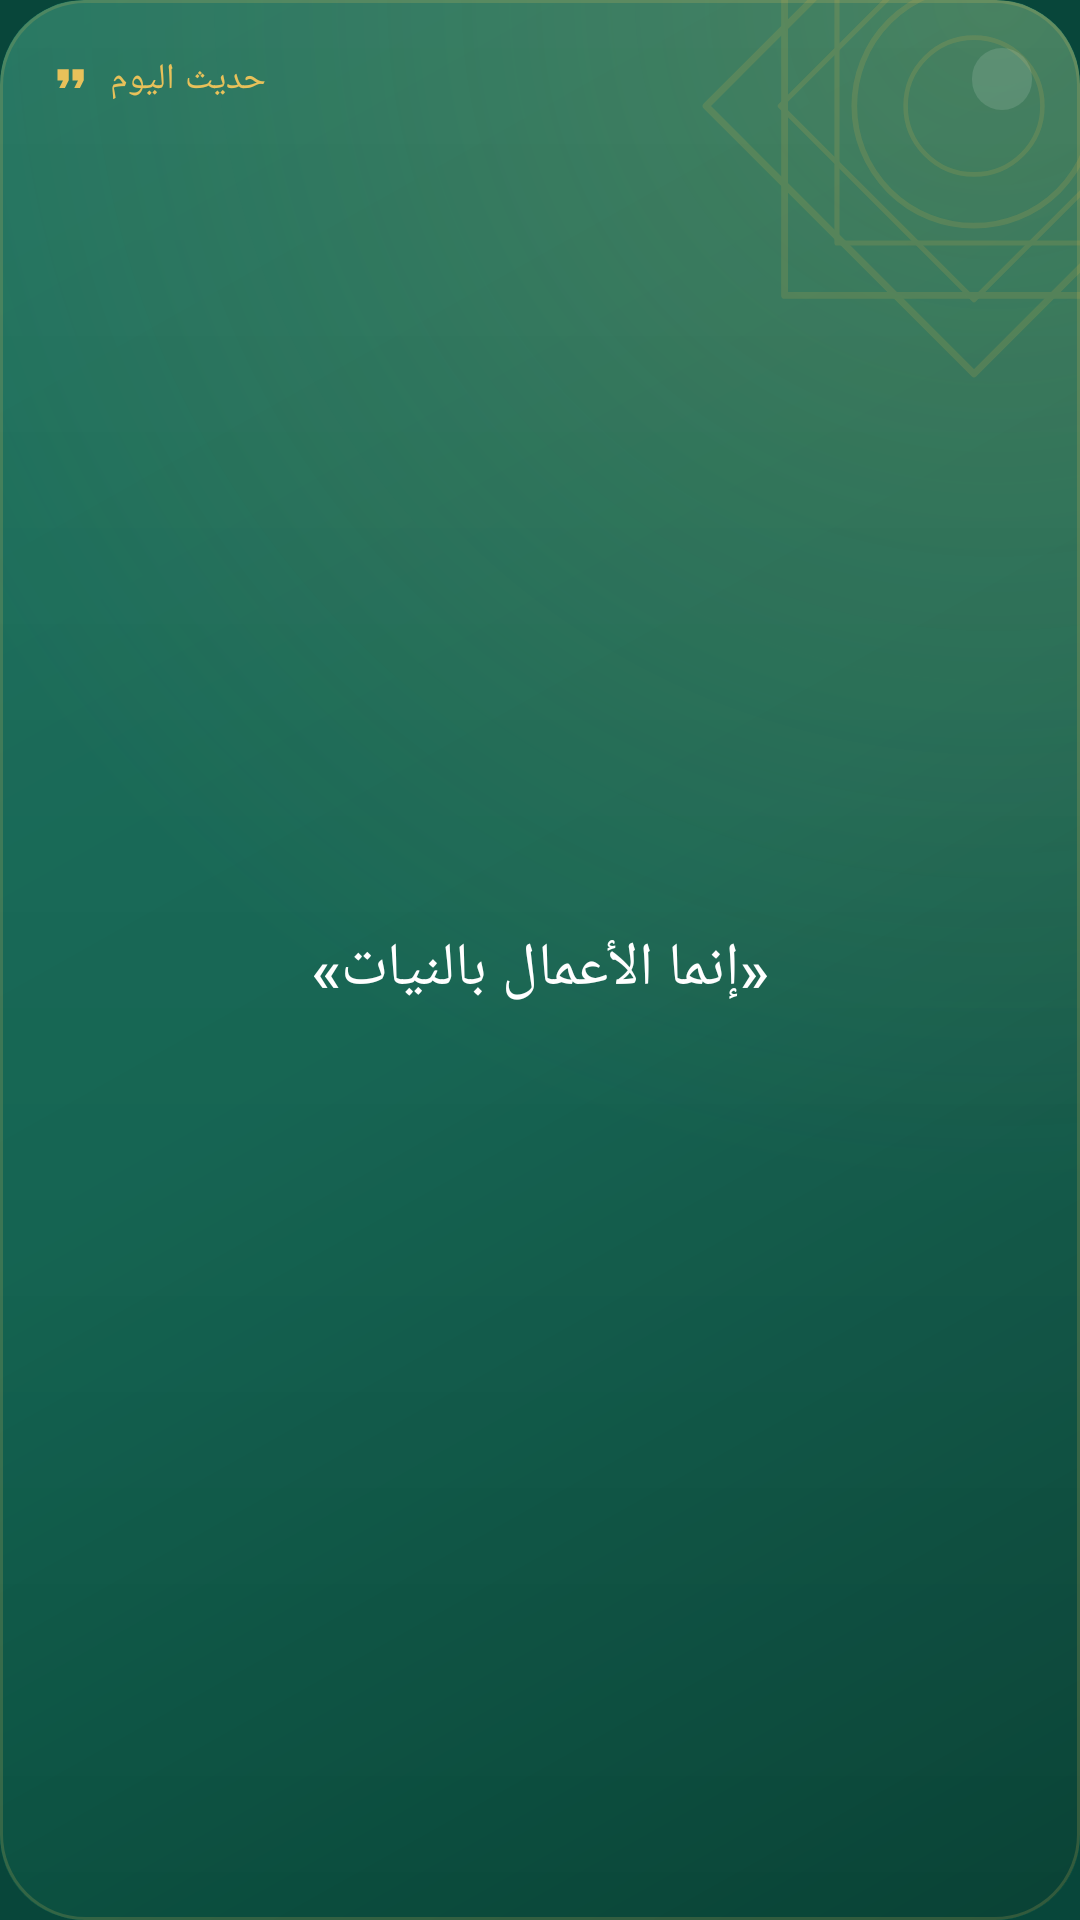

Named icons in this screenshot (1080*1920) and their bounding boxes, [left=x1, top=y1, right=x2, bottom=y2]:
quote: [left=57, top=69, right=84, bottom=88]
